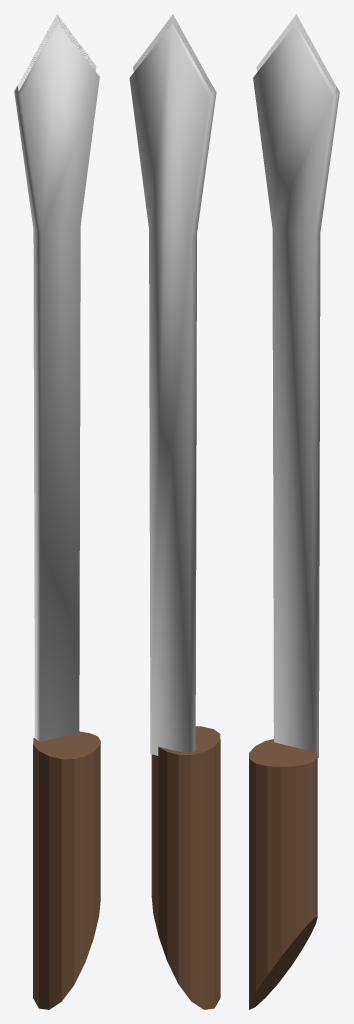
Rendered from sword.fbx.
The picture shows the model from 3 angles, left to right: view 1: azimuth 30°, elevation 25°; view 2: azimuth 150°, elevation 25°; view 3: azimuth 330°, elevation 25°; orthographic projection.
Visible parts, largest first — view 1: SwordBlade, Handle; view 2: SwordBlade, Handle; view 3: SwordBlade, Handle.
Part boxes in pixels (x1,y1,x2,y2): SwordBlade: (14, 14, 99, 741); Handle: (33, 731, 100, 1009); SwordBlade: (129, 14, 216, 755); Handle: (151, 726, 220, 1009); SwordBlade: (253, 14, 339, 757); Handle: (249, 739, 317, 1009).
Bounding box in the file's own units: 40 × 475 × 30.37.
